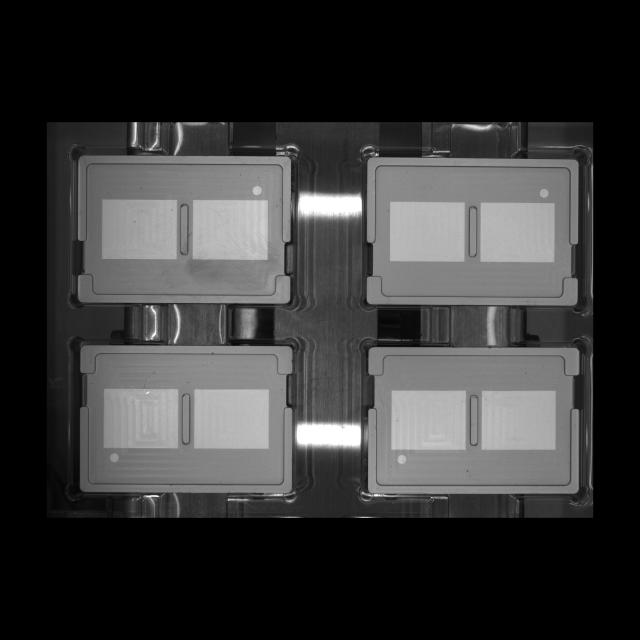product: (67, 333, 301, 504), (357, 144, 590, 314), (356, 335, 589, 505), (67, 142, 301, 311)
